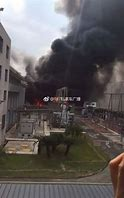smoke: (27, 1, 123, 88)
